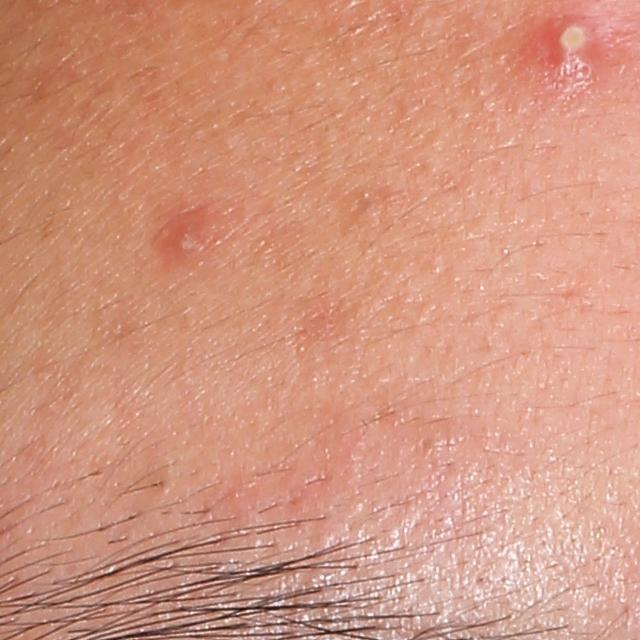papule: (147, 205, 208, 267)
